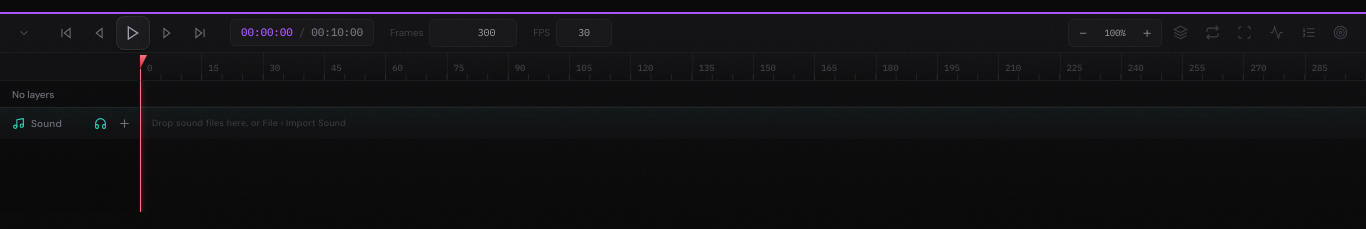
Scenario: Timeline › sets the frames per second for the whole document
Replace the text in the number field named "Frames per second" with "24" at x=584, y=32, box x1=556 y1=18 x2=612 y2=46
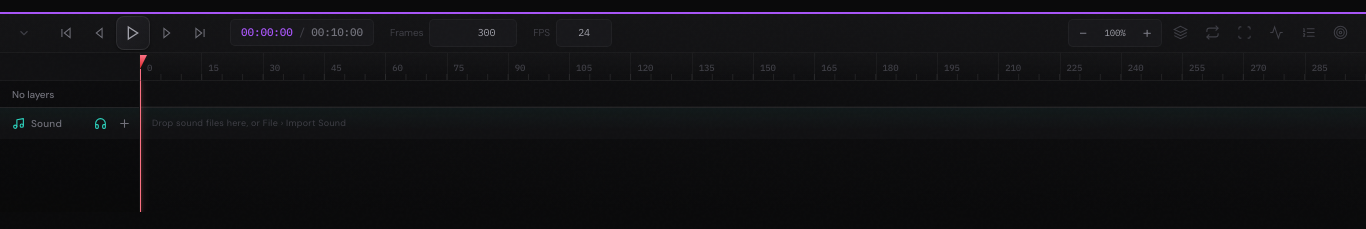
Press Enter in the number field named "Frames per second", box x1=556 y1=18 x2=612 y2=46
Leave the number field named "Frames per second", box x1=556 y1=18 x2=612 y2=46
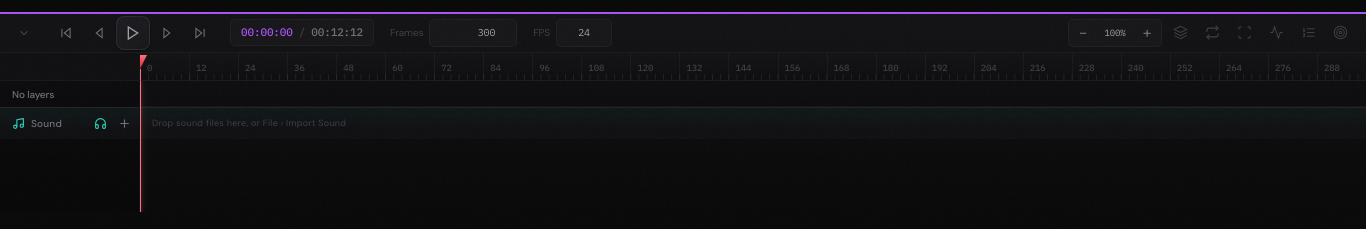
Check: the text "00:12:12" is shown, box x1=311 y1=24 x2=363 y2=41
